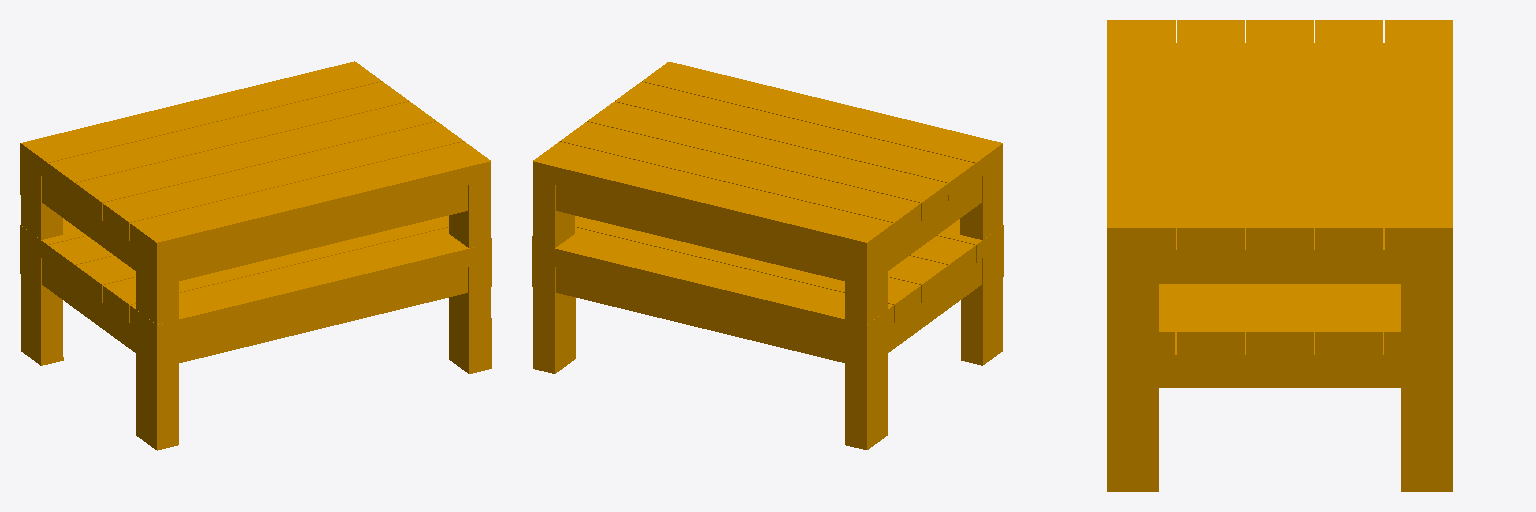
robot.urdf — Kitchen_table:
<?xml version="1.0" ?>
<robot name="Kitchen_table">
    <link name="link">
    <contact>
      <lateral_friction value="1.0"/>
      <rolling_friction value="1"/>
      <inertia_scaling value="3.0"/>
    </contact>
    <inertial>
      <origin xyz="0. 0. 0." />
      <mass value="10000" />
      <inertia ixx="0.001" ixy="0.0" ixz="0.0" iyy="0.001" iyz="0.0" izz="0.001" />
    </inertial>
      <pose>0 0 0 0 0 1.57079632679</pose>

        <visual name="visual">
        <origin rpy="0.0 0.0 0.0" xyz="0.0 0.0 0.0" />
          <geometry>
            <mesh filename="meshes/model.obj" />
          </geometry>
        </visual>

        <collision name="collision">
        <origin rpy="0.0 0.0 0.0" xyz="0.0 0.0 0.0" />
          <geometry>
            <mesh filename="meshes/model.obj" />
          </geometry>
        </collision>

    </link>
  </robot>

--- Facts derived from the render (not from the file) ---
Views: 3 orthographic renders of the robot side by side, from view 1: azimuth 30°, elevation 25°; view 2: azimuth 150°, elevation 25°; view 3: azimuth 270°, elevation 25°.
Robot: Kitchen_table — 1 links, 0 joints (none); root link link; default pose: all joints at 0.
Links seen in each view (by area): view 1: link; view 2: link; view 3: link.
Link boxes in pixels (x1,y1,x2,y2): link: (20,61,491,450); link: (532,62,1003,449); link: (1107,20,1452,491).
Size in the robot's own frame: 0.3907 by 0.276 by 0.2319 metres.
1 mesh visuals loaded from 1 distinct referenced files (1 OBJ).